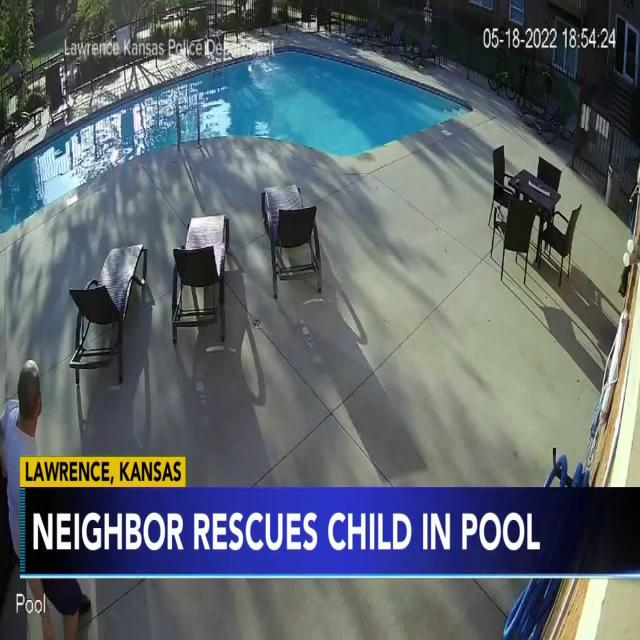adult: (0, 348, 90, 640)
